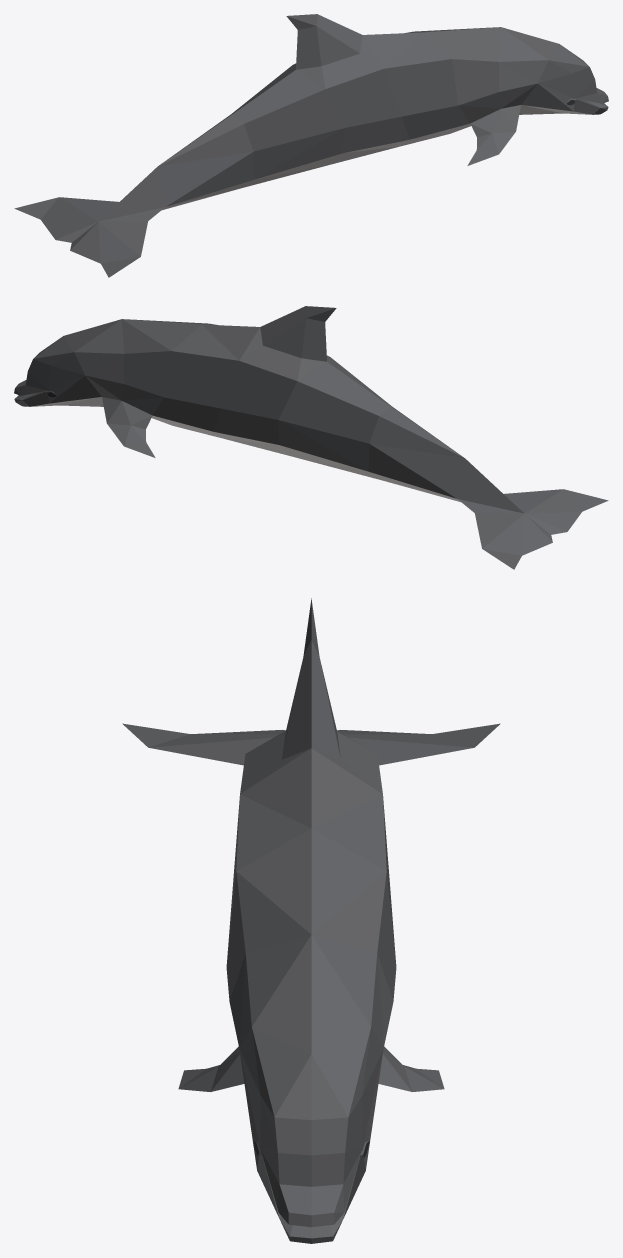
The model's file is Bottlenose Dolphin.fbx.
3 renders of one model, top to bottom at view 1: azimuth 30°, elevation 25°; view 2: azimuth 150°, elevation 25°; view 3: azimuth 270°, elevation 25°, orthographic. The views are drawn at different scales.
Visible parts, largest first — view 1: Bottlenose Dolphin; view 2: Bottlenose Dolphin; view 3: Bottlenose Dolphin.
Boxes of the visible parts, left/top/right/bottom form: Bottlenose Dolphin: left=14, top=14, right=608, bottom=277; Bottlenose Dolphin: left=14, top=306, right=608, bottom=569; Bottlenose Dolphin: left=122, top=598, right=500, bottom=1243.
Size of the model in its own units: 14.34 by 4.41 by 4.33.
